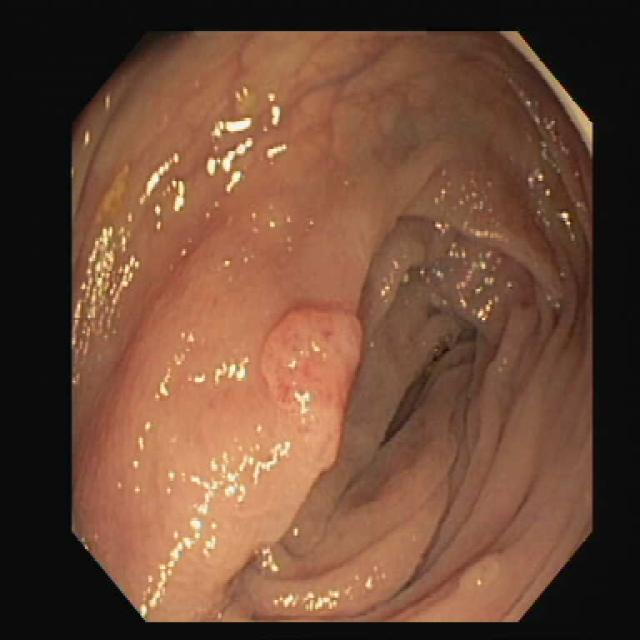tumor: (260, 307, 358, 467)
